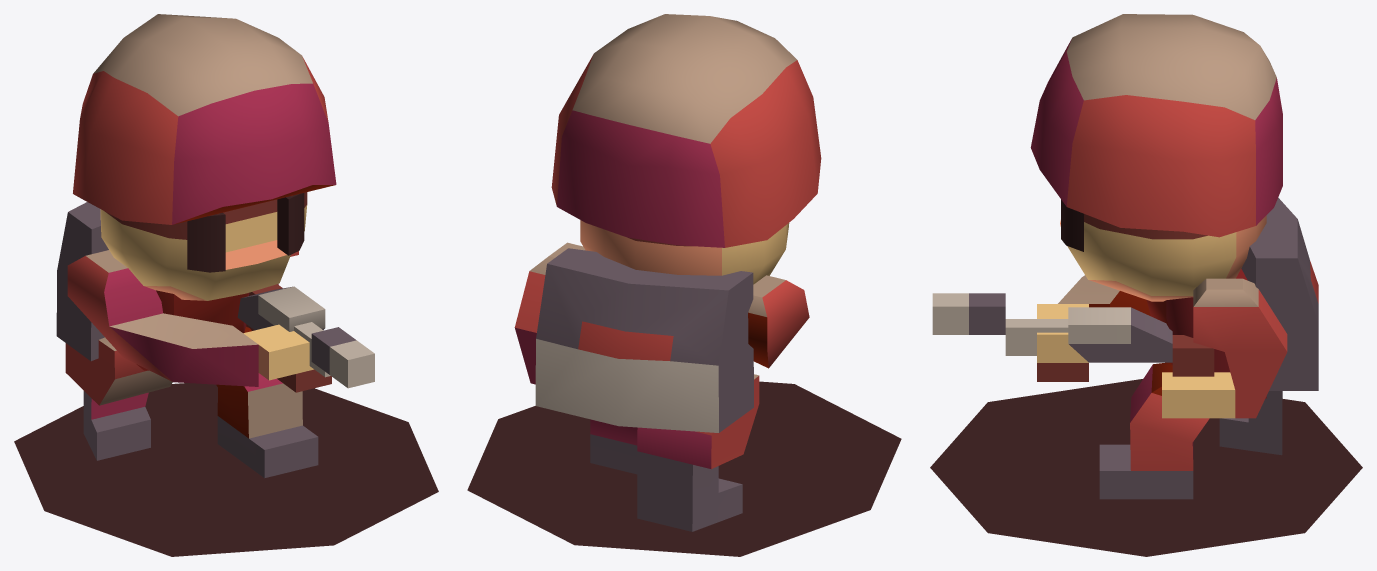
The model's file is InfantryMesh.RedFire.glb.
The picture shows the model from 3 angles, left to right: view 1: azimuth 30°, elevation 25°; view 2: azimuth 150°, elevation 25°; view 3: azimuth 270°, elevation 25°; orthographic projection. The views are drawn at different scales.
Parts seen in each view (by area): view 1: InfantryMesh.RedFire; view 2: InfantryMesh.RedFire; view 3: InfantryMesh.RedFire.
Boxes of the visible parts, x1,y1,x2,y2 form: InfantryMesh.RedFire: [14, 14, 438, 556]; InfantryMesh.RedFire: [467, 14, 901, 556]; InfantryMesh.RedFire: [930, 14, 1362, 556].
Bounding box in the file's own units: 2.03 × 2.3 × 2.07.
Materials: 1 (1 with a texture image).
